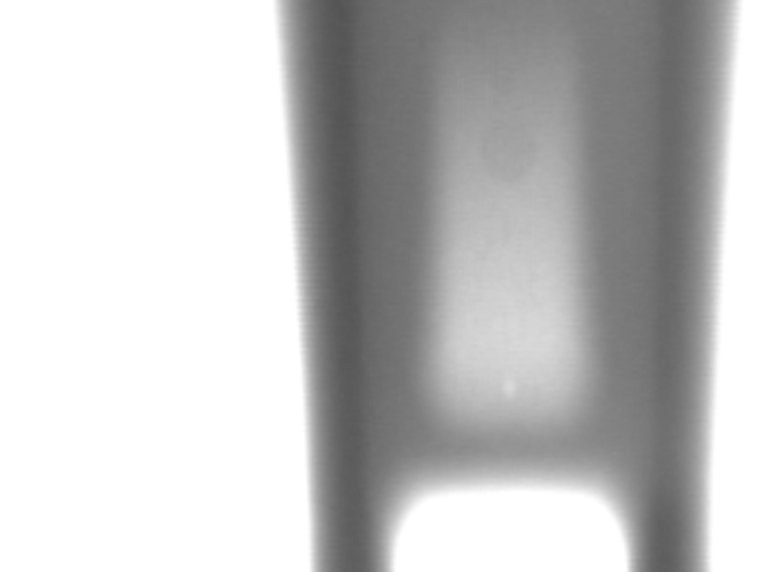defect: (507, 384, 521, 410)
